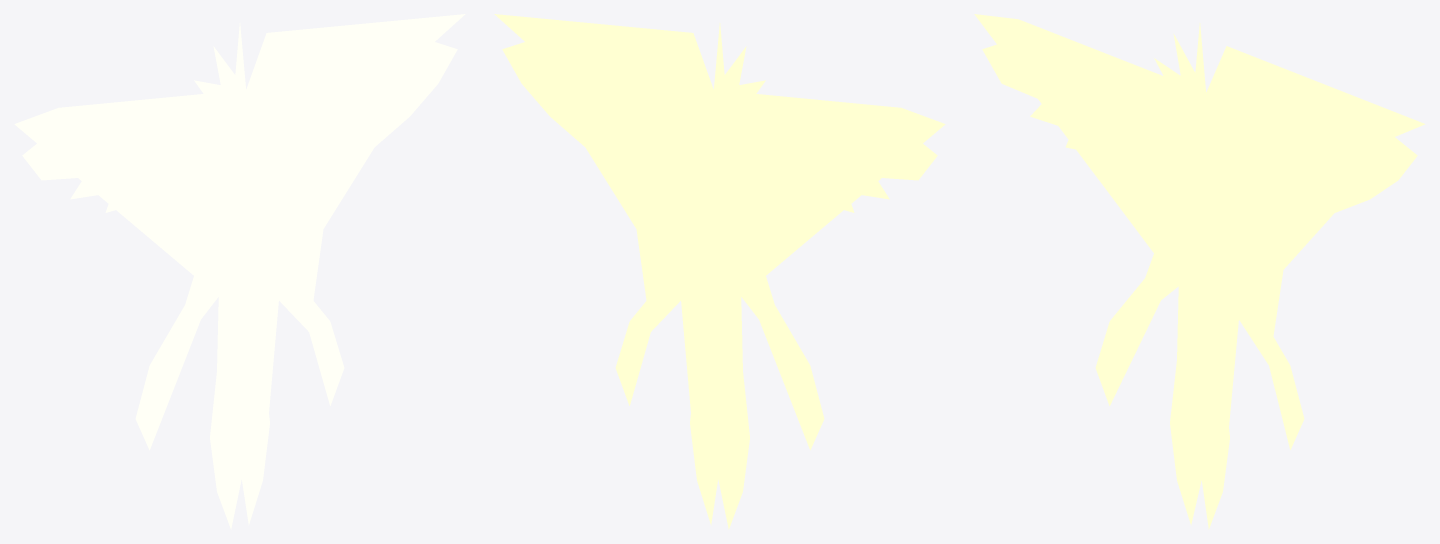
File: phoenix_light.glb
The picture shows the model from 3 angles, left to right: view 1: azimuth 30°, elevation 25°; view 2: azimuth 150°, elevation 25°; view 3: azimuth 330°, elevation 25°; orthographic projection.
Parts seen in each view (by area): view 1: Phoenix; view 2: Phoenix; view 3: Phoenix.
Part boxes in pixels (x1=…): Phoenix: x1=14, y1=14, x2=465, y2=529; Phoenix: x1=494, y1=14, x2=945, y2=529; Phoenix: x1=974, y1=14, x2=1425, y2=529.
Size of the model in its own units: 5.1 by 5.47 by 0.
